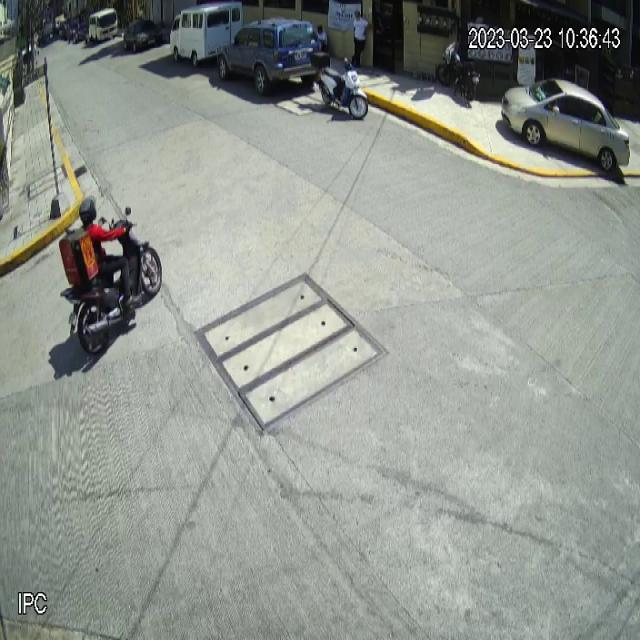Car: (500, 76, 631, 175), (216, 17, 322, 98)
Motorcycle: (60, 203, 164, 360), (310, 49, 370, 121)
Van: (169, 1, 245, 67)
